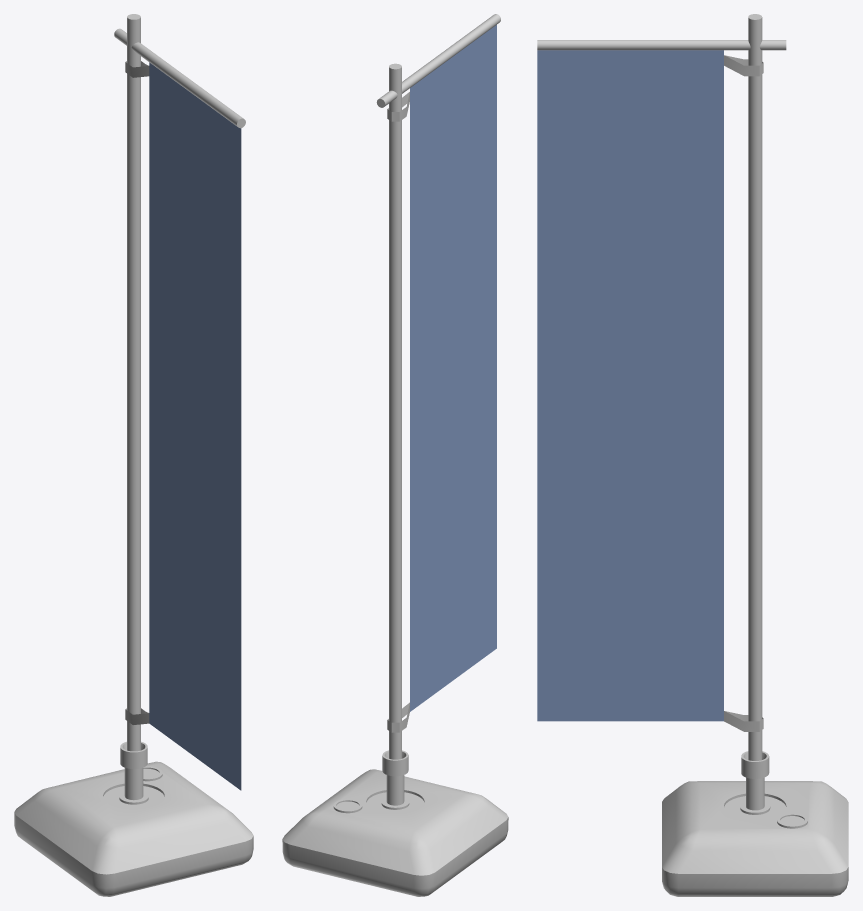
Rendered from flag-base1-set.fbx.
3 views of the same model, side by side, from view 1: azimuth 30°, elevation 25°; view 2: azimuth 150°, elevation 25°; view 3: azimuth 270°, elevation 25° (orthographic). The views are drawn at different scales.
Visible parts, largest first — view 1: flag, flag-base1; view 2: flag, flag-base1; view 3: flag, flag-base1.
Part boxes in pixels (x1,y1,x2,y2): flag: [114, 14, 245, 790]; flag-base1: [14, 741, 253, 896]; flag: [376, 14, 500, 759]; flag-base1: [282, 750, 508, 896]; flag: [537, 14, 786, 760]; flag-base1: [662, 751, 848, 896].
Bounding box in the file's own units: 30 × 150 × 50.
